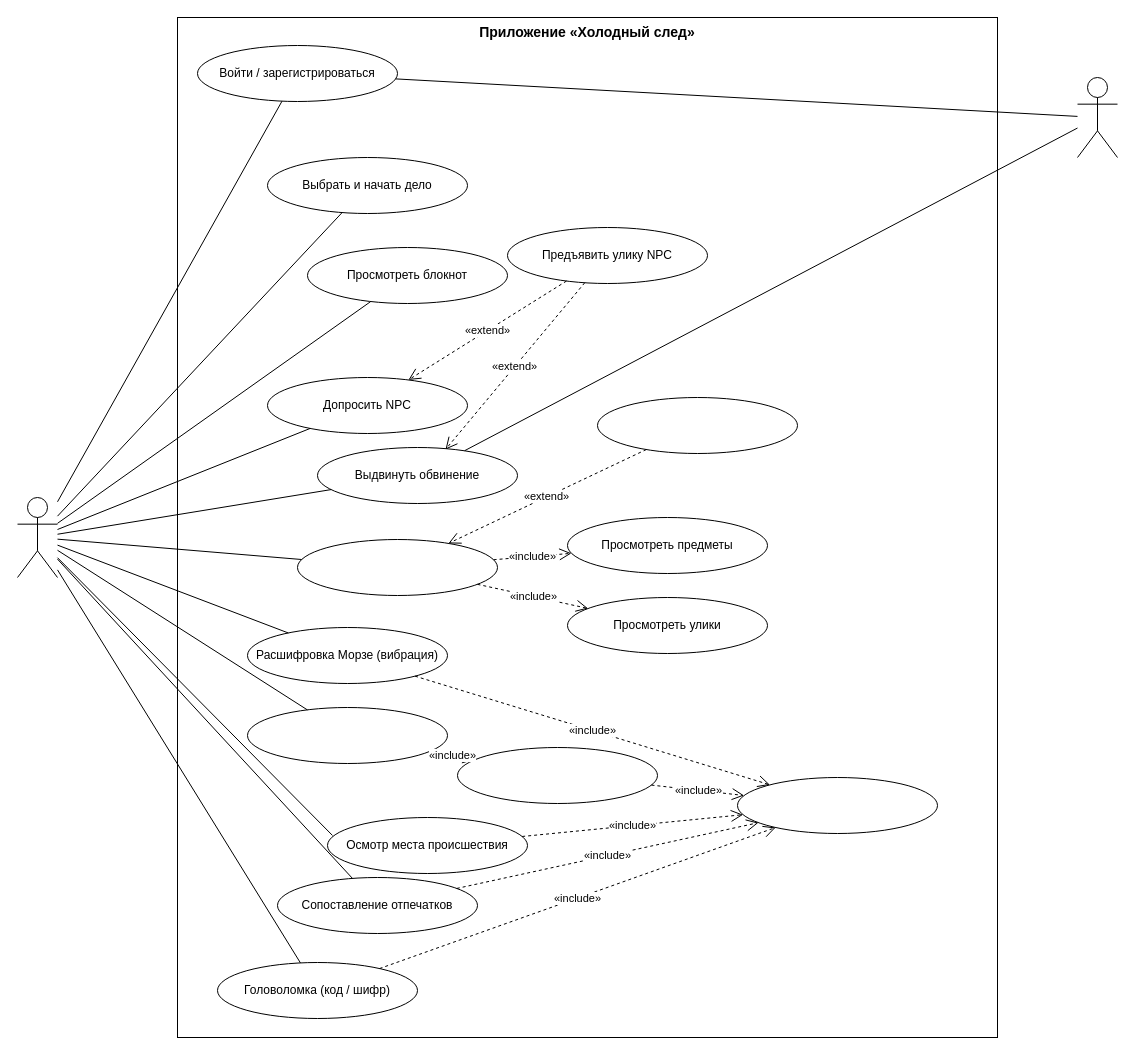
Image size: 1144x1055. Some labels were removed from this diagram. The centre of each missing label's shape, as x and y in pixels:
"Supabase" goes at [1097,117].
"Добавить находку в инвентарь" goes at [837,805].
"Игрок" goes at [37,537].
"Осмотреть предмет" goes at [697,425].
"Открыть инвентарь" goes at [397,567].
"Подойти и сфотографировать" goes at [557,775].
"Поиск улик камерой (360°)" goes at [347,735].
